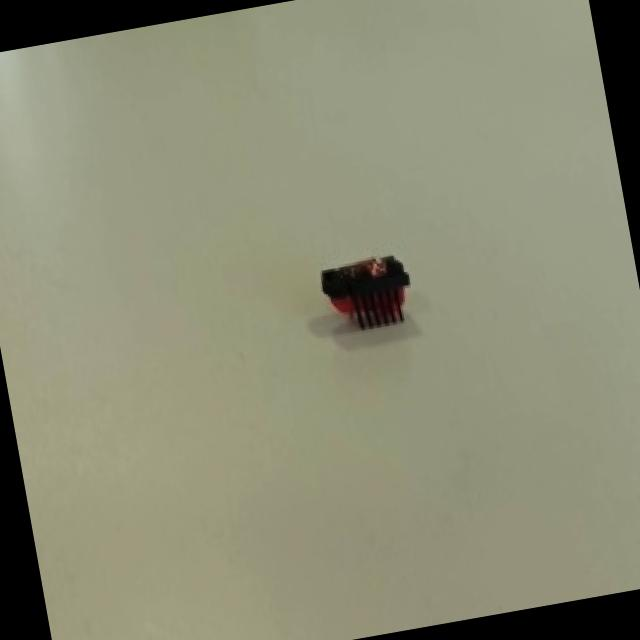2_NanoBug_Negro: (305, 218, 439, 384)
